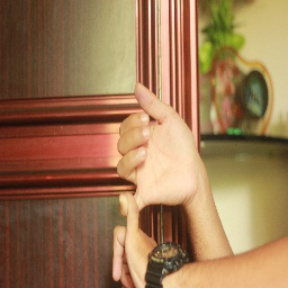S: (105, 79, 200, 288)
